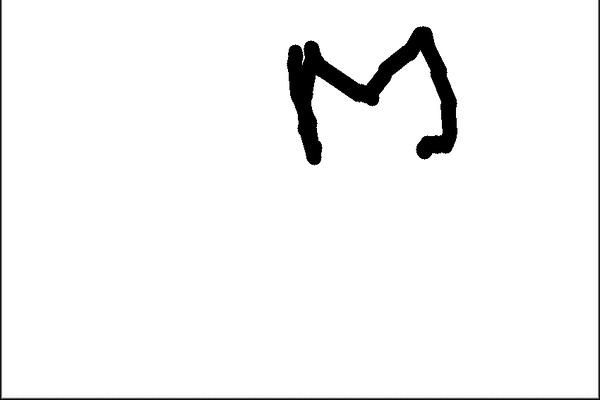M: (286, 22, 460, 165)
